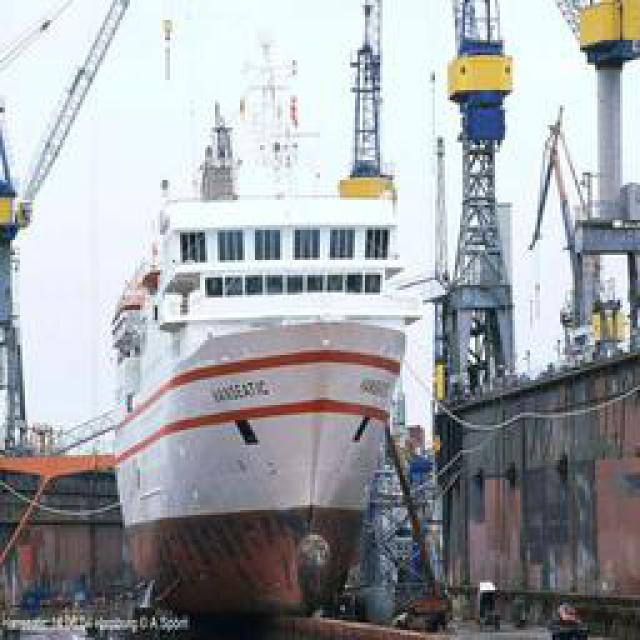Ship: (107, 92, 422, 626)
